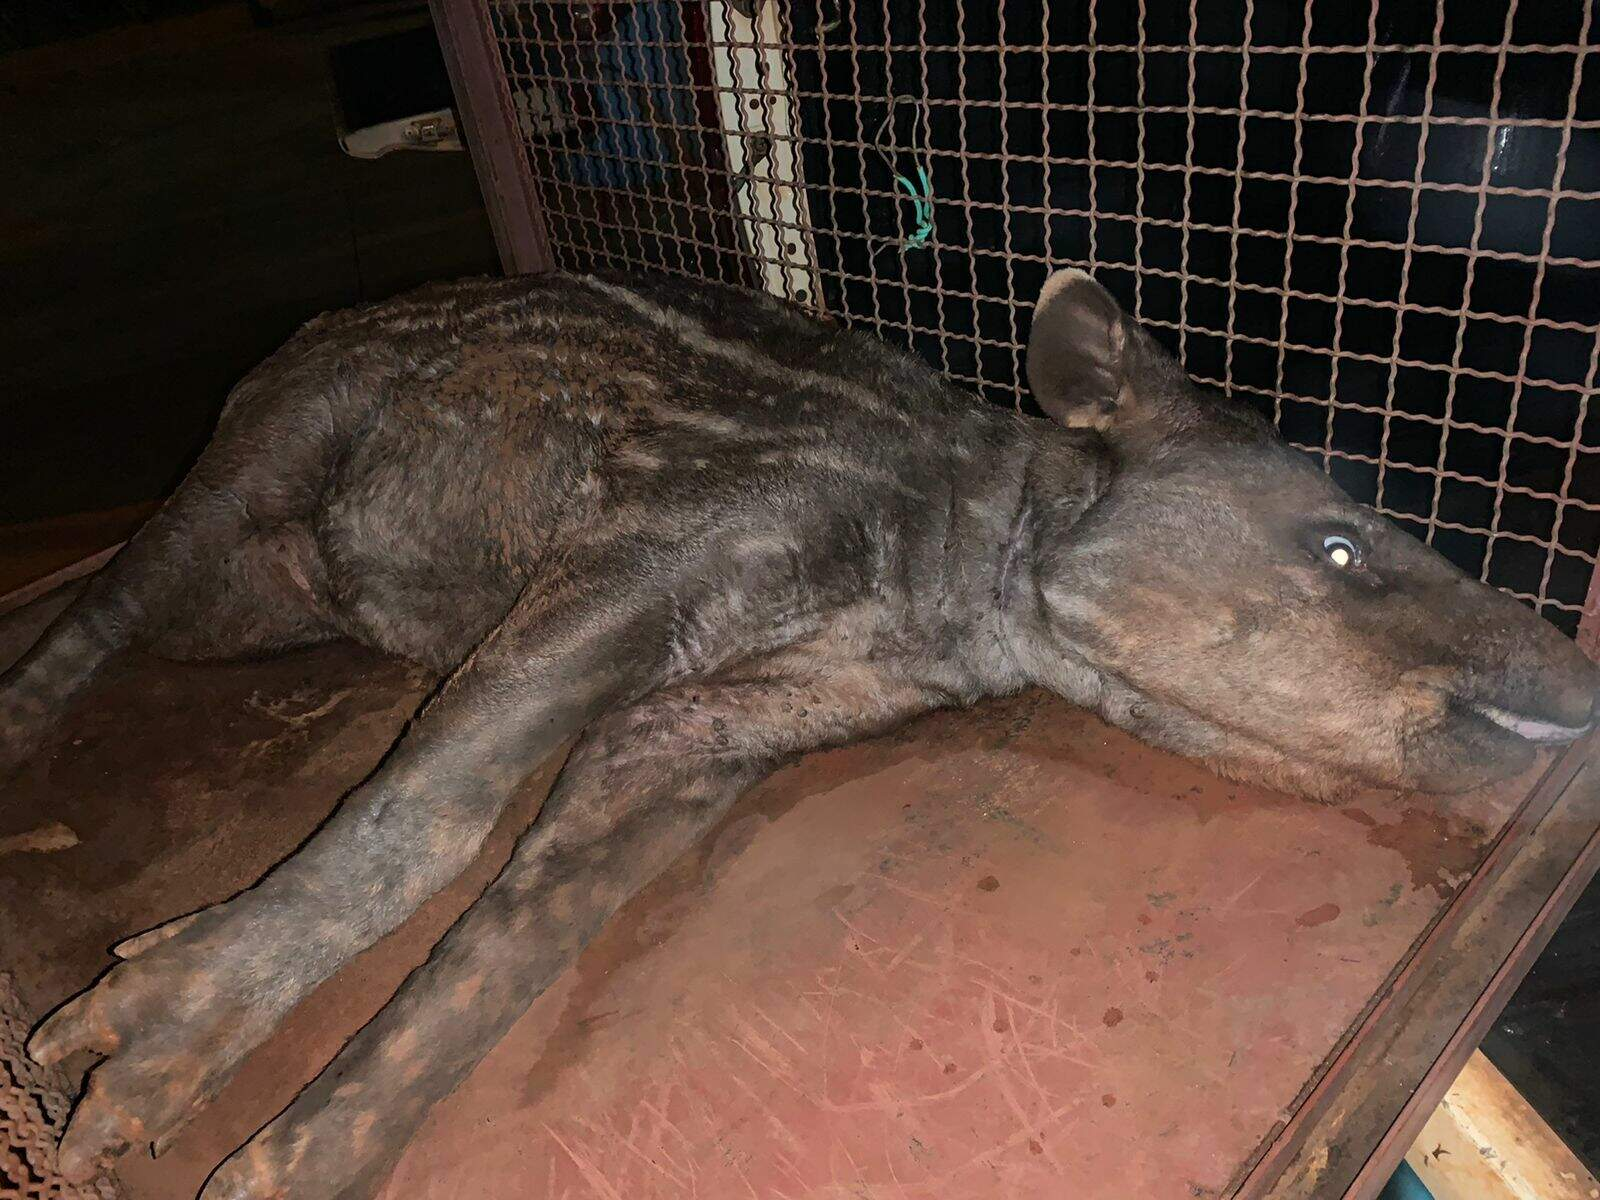Anta: (43, 245, 1580, 1185)
